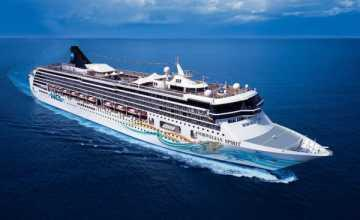youlun: (27, 36, 328, 176)
